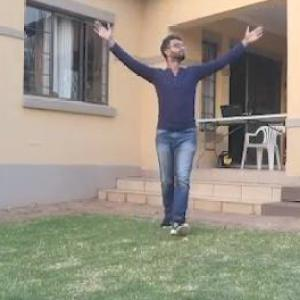takeoff: (100, 33, 259, 235)
